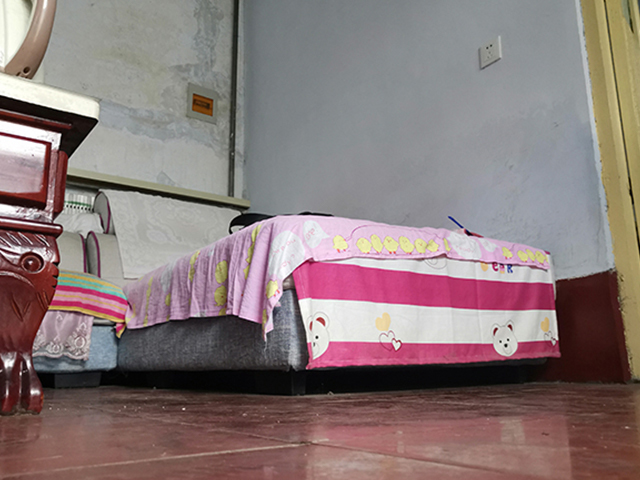sofa: (31, 184, 565, 398)
